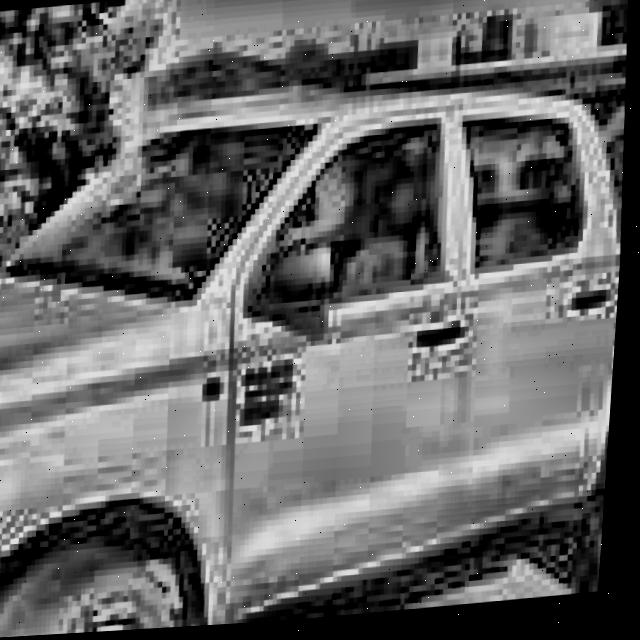light_vehicle: (0, 33, 637, 640)
